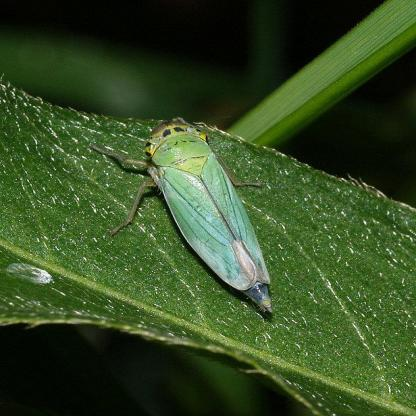Green-Leafhopper: (102, 116, 280, 322)
